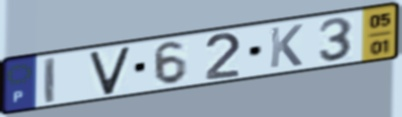2: (204, 30, 242, 81)
3: (317, 15, 357, 64)
6: (152, 39, 190, 86)
I: (42, 55, 57, 106)
K: (268, 23, 305, 70)
V: (87, 44, 133, 98)
